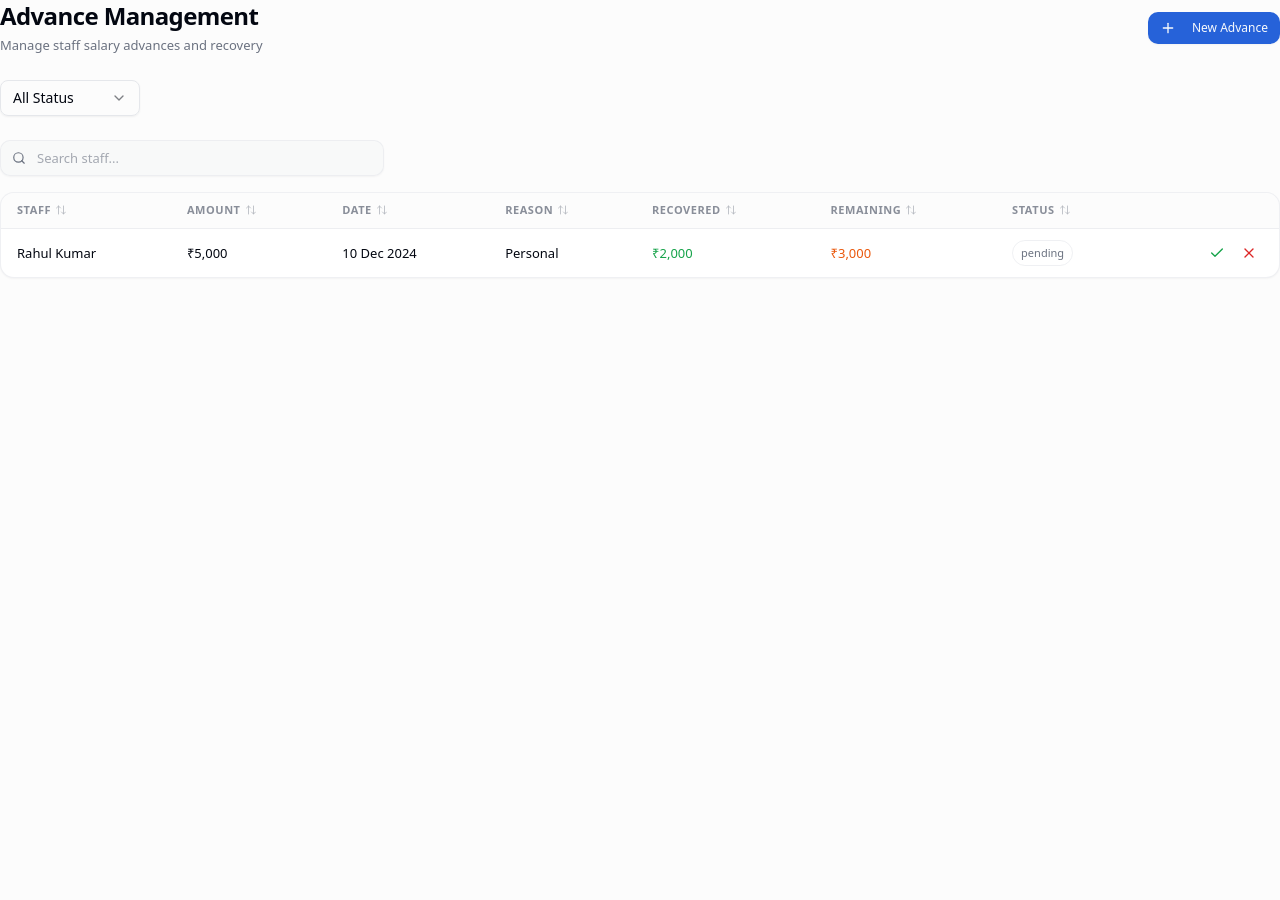
it: AdvancesPage › opens add advance dialog
Click the button "New Advance".
click(1214, 28)  # box [1148,12,1279,44]
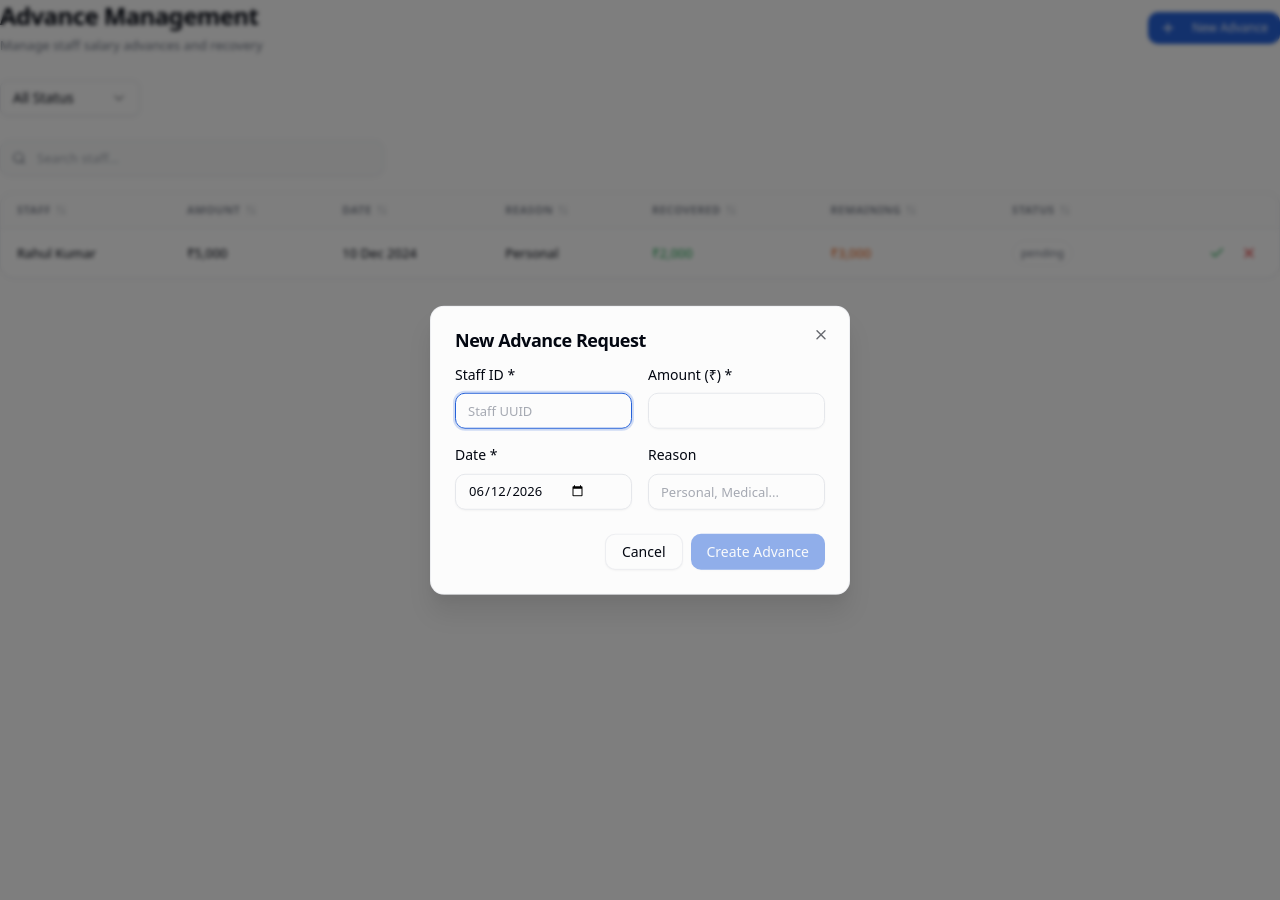
Check: the heading "New Advance Request" is shown, box [455,328,646,352]
